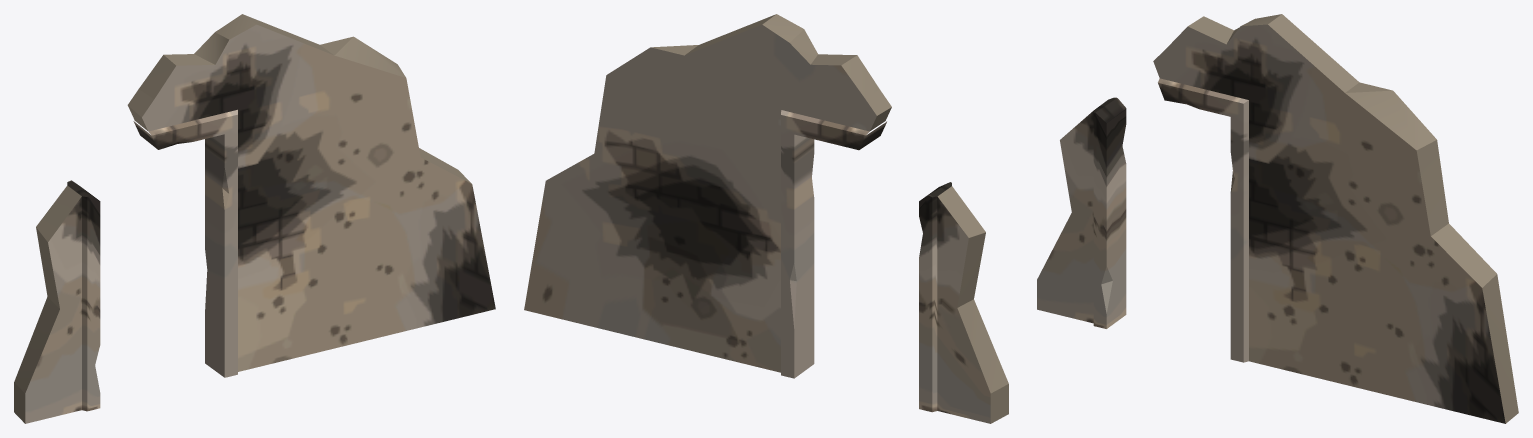
The model's file is SM_Bld_Village_03_Destroyed.glb.
3 views of the same model, side by side, from view 1: azimuth 30°, elevation 25°; view 2: azimuth 150°, elevation 25°; view 3: azimuth 330°, elevation 25° (orthographic).
Visible parts, largest first — view 1: SM_Bld_Village_03_Destroyed; view 2: SM_Bld_Village_03_Destroyed; view 3: SM_Bld_Village_03_Destroyed.
Part boxes in pixels (left/top/right/bottom): SM_Bld_Village_03_Destroyed: left=14, top=14, right=495, bottom=423; SM_Bld_Village_03_Destroyed: left=524, top=14, right=1008, bottom=423; SM_Bld_Village_03_Destroyed: left=1037, top=14, right=1518, bottom=423.
Bounding box in the file's own units: 4.65 × 3.24 × 0.3412.
Materials: 1 (1 with a texture image).
